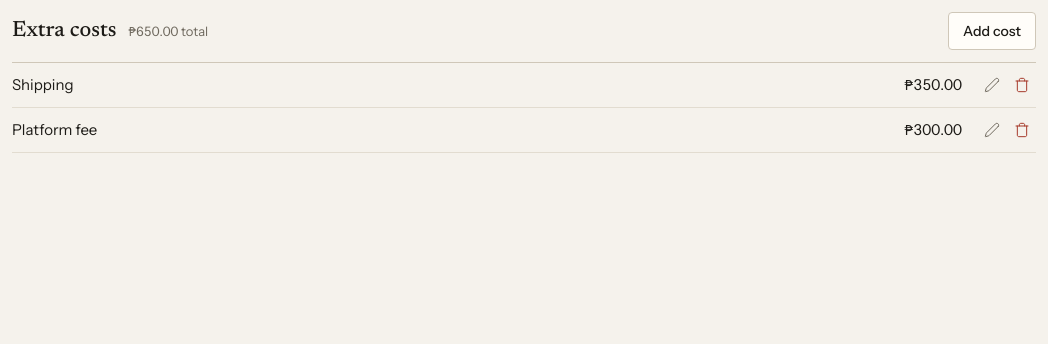
Test: a negative amount shows the error on the field
This screenshot has width=1048, height=344.
Click the button "Add cost" at (992,31), box [948,12,1036,50]
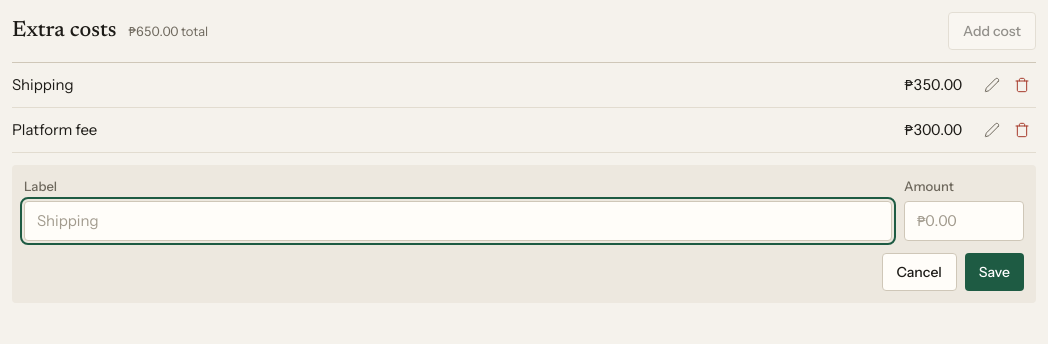
Type "Refund" into the field labelled "Label" at (458,221), box [24,201,892,241]
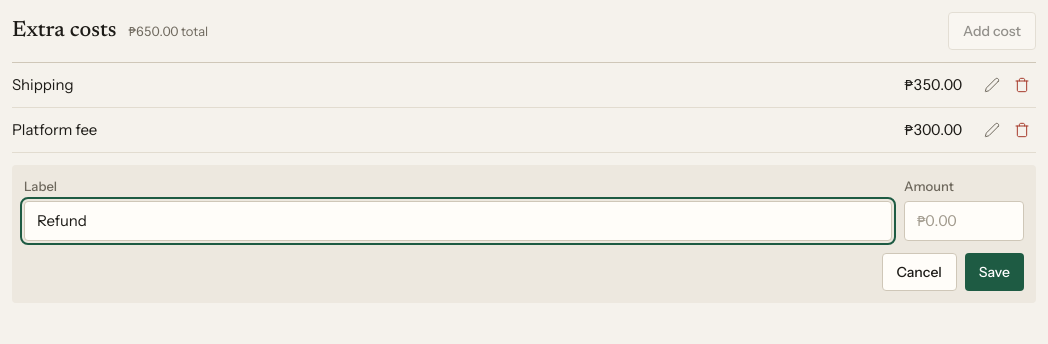
Type "-50" into the field labelled "Amount" at (964,221), box [904,201,1024,241]
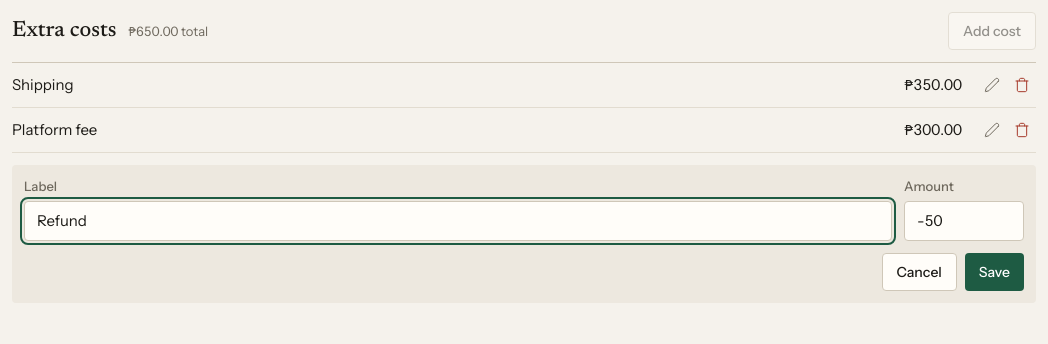
Submit the form named "New cost", box [12,165,1036,303]
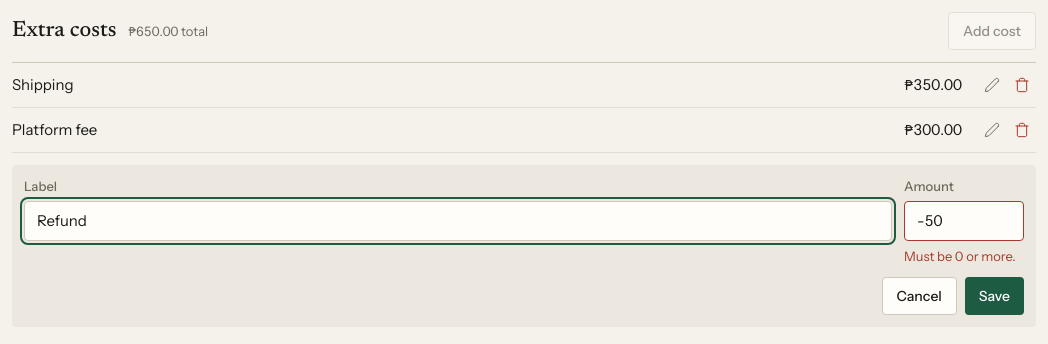
Now the text "Must be 0 or more." is shown, box [904,247,1024,265]
